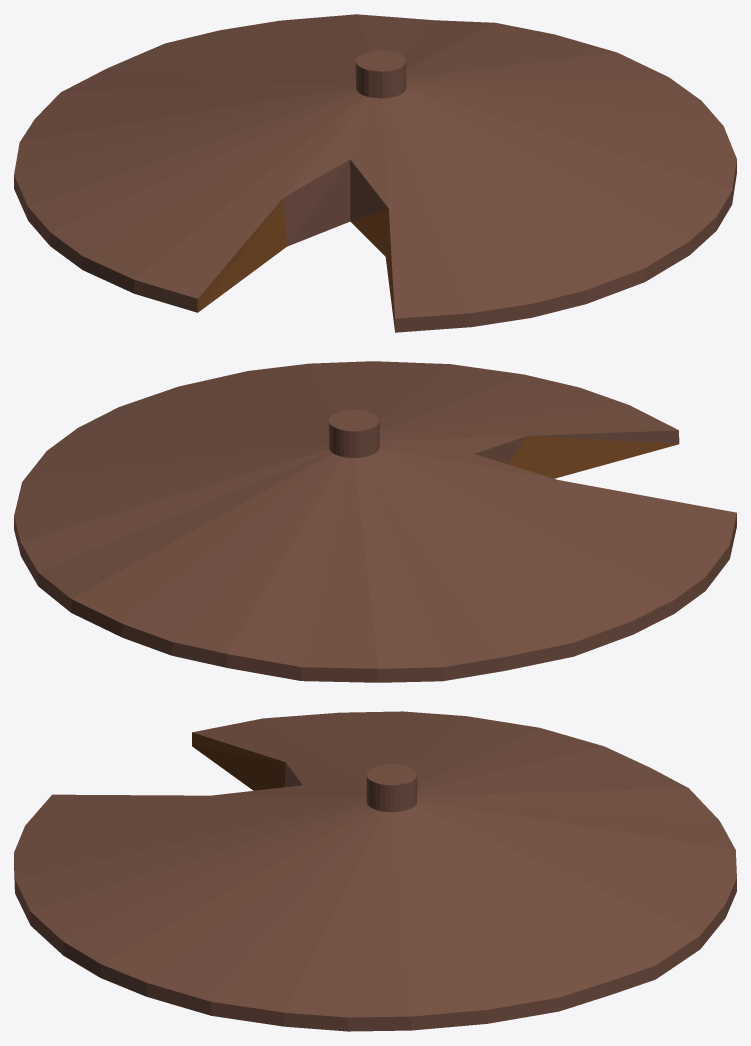
File: Lid_One_1126.fbx
3 views of the same model, one above another, from view 1: azimuth 30°, elevation 25°; view 2: azimuth 150°, elevation 25°; view 3: azimuth 270°, elevation 25° (orthographic).
Visible parts, largest first — view 1: Lid_One; view 2: Lid_One; view 3: Lid_One.
Boxes of the visible parts, x1,y1,x2,y2 form: Lid_One: [14, 14, 736, 332]; Lid_One: [14, 361, 736, 682]; Lid_One: [14, 711, 736, 1031].
Bounding box in the file's own units: 290 × 50.85 × 290.
